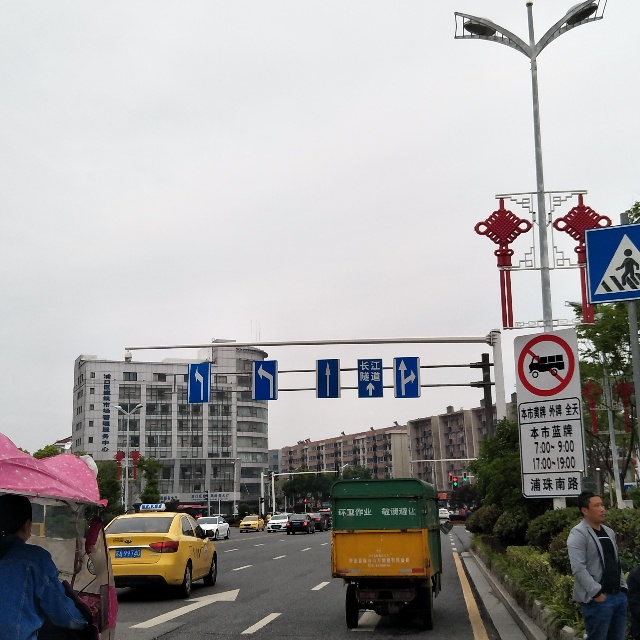crosswalk: (581, 220, 640, 308)
left: (250, 358, 279, 403), (184, 357, 210, 406)
straight: (318, 356, 341, 399)
